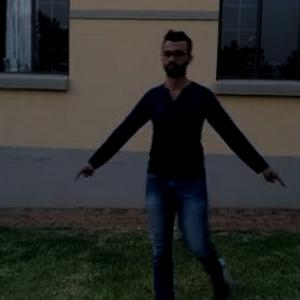land: (99, 40, 268, 292)
